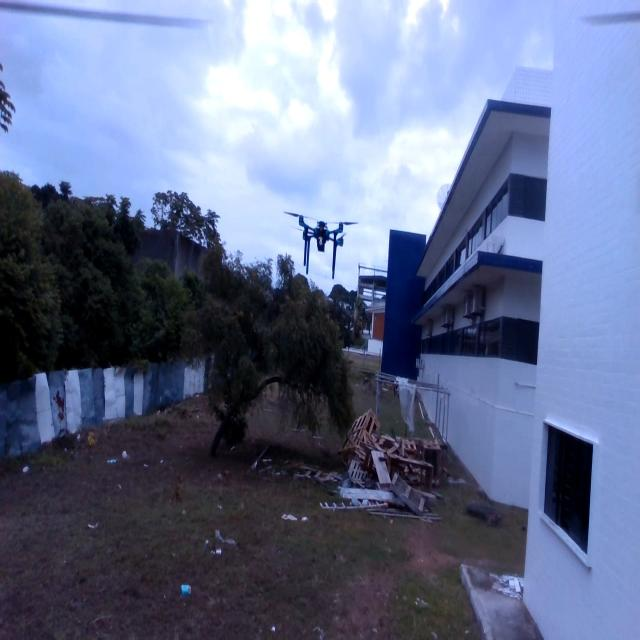-uav-: (277, 194, 366, 290)
